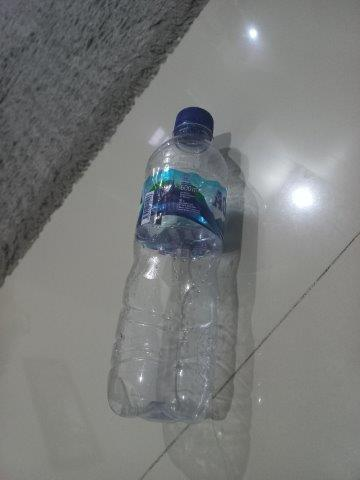botolplastik: (107, 108, 229, 422)
